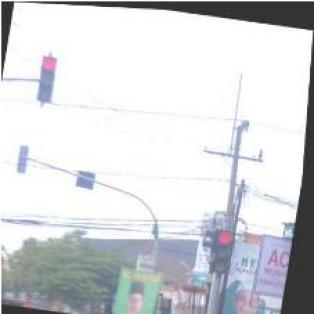Semaforo Rojo: (34, 54, 59, 105), (216, 228, 238, 273)
